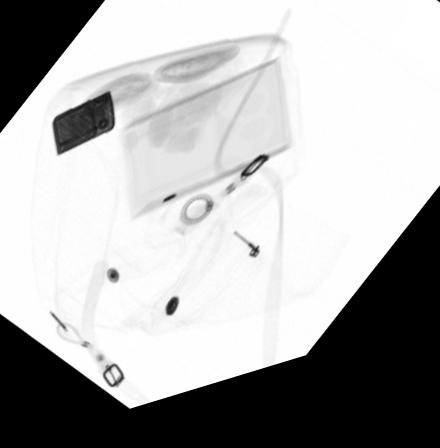Lighter: (50, 96, 114, 158)
